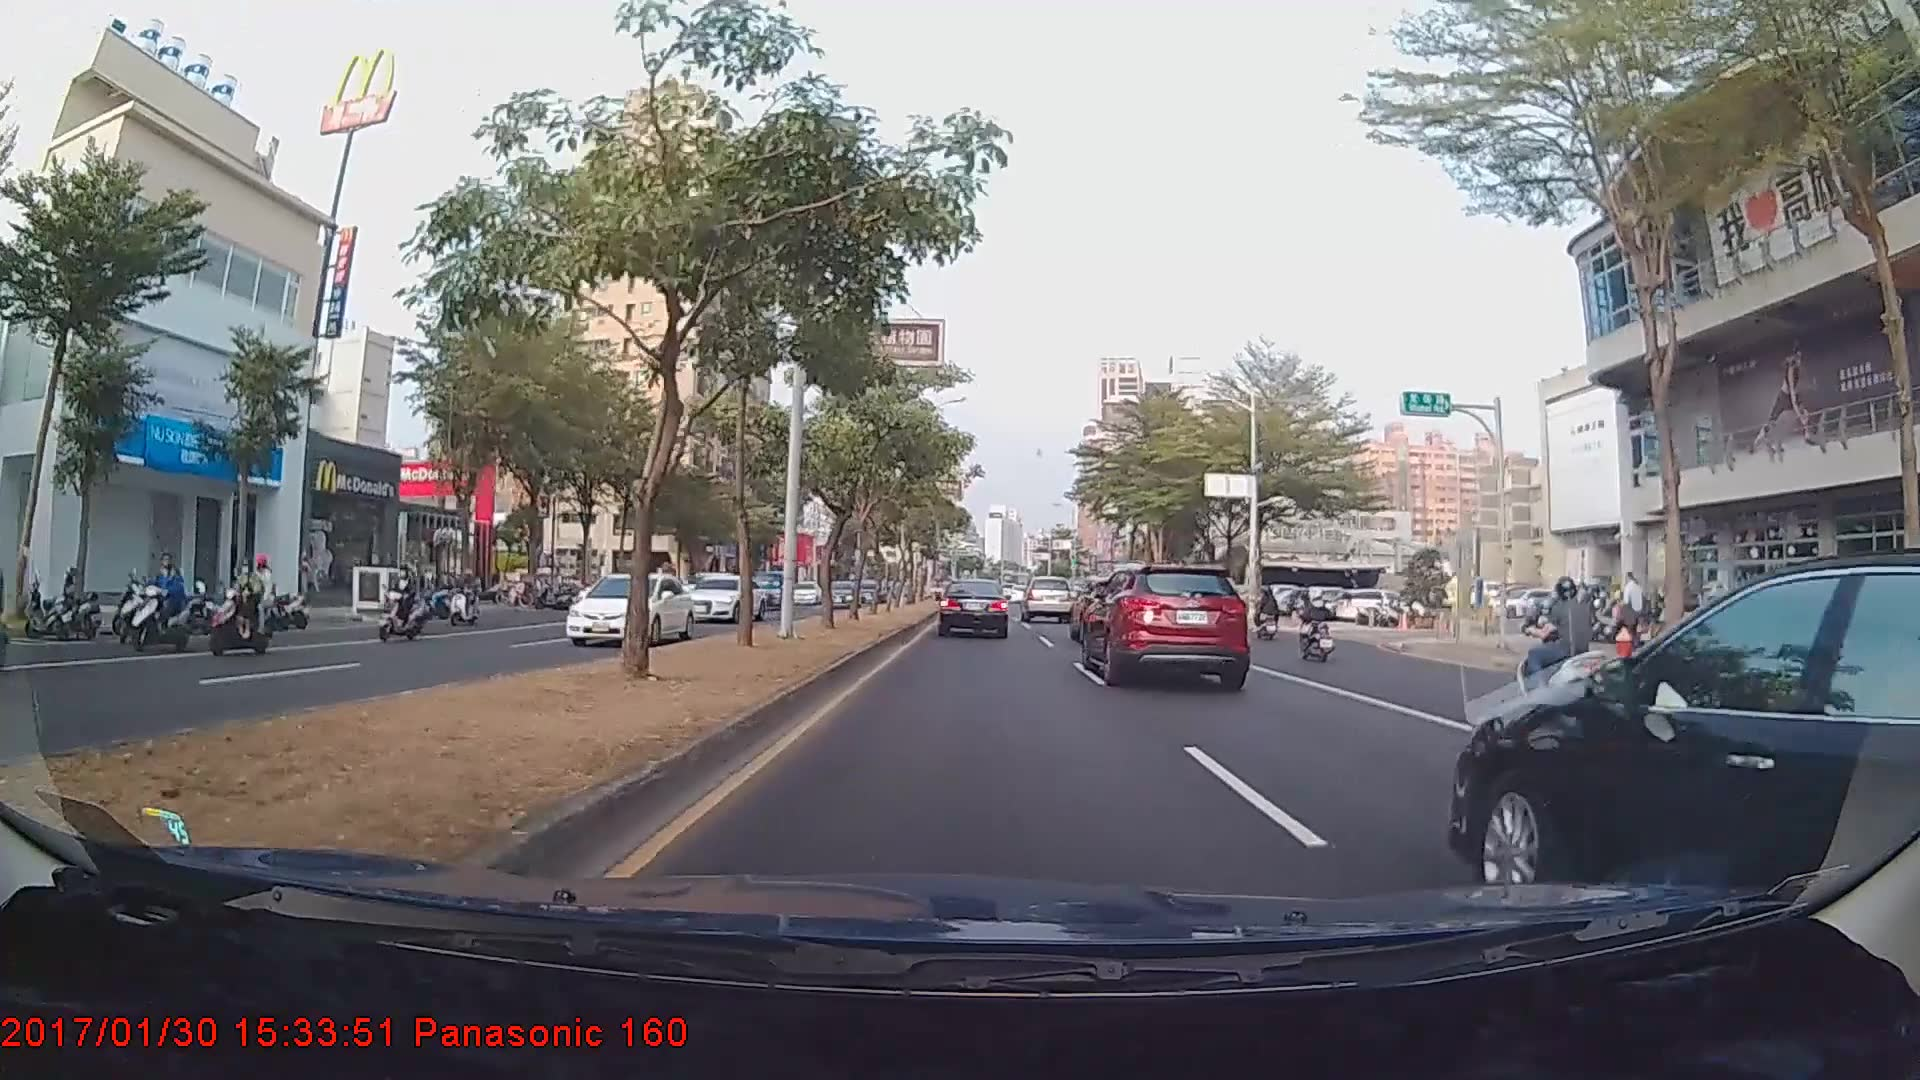pedestrian: (1616, 571, 1646, 655)
rider: (1508, 572, 1626, 735), (117, 546, 202, 653), (206, 553, 278, 657), (367, 561, 428, 646), (1297, 586, 1341, 668), (445, 566, 488, 631)
vehicle: (1457, 550, 1920, 927), (1082, 562, 1249, 684), (563, 571, 695, 646), (937, 579, 1008, 639), (678, 573, 764, 622), (1020, 574, 1075, 624)
